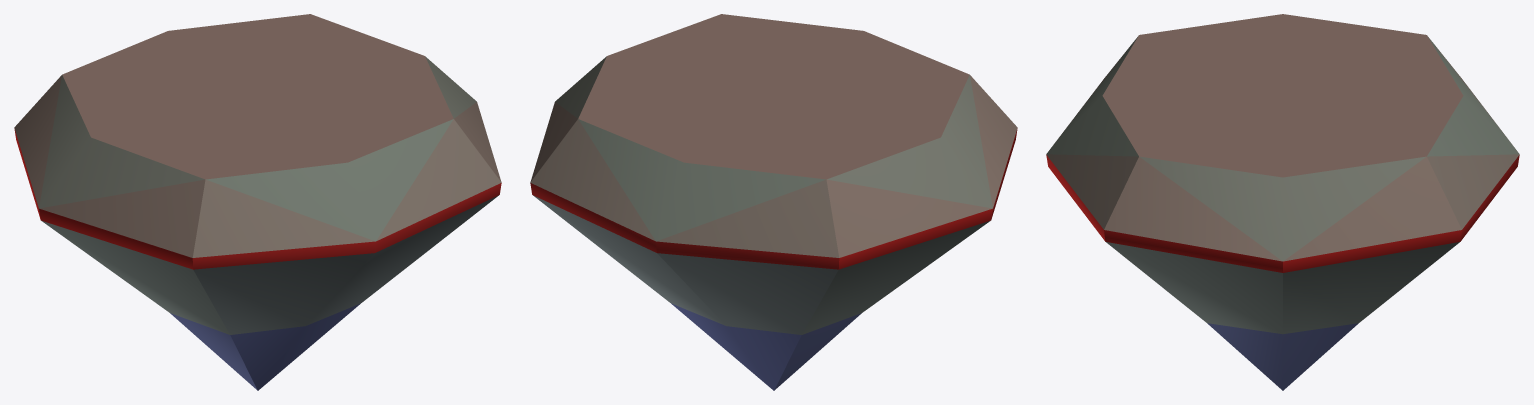
Rendered from Diamond.fbx.
The picture shows the model from 3 angles, left to right: view 1: azimuth 30°, elevation 25°; view 2: azimuth 150°, elevation 25°; view 3: azimuth 270°, elevation 25°; orthographic projection.
Parts seen in each view (by area): view 1: Diamond; view 2: Diamond; view 3: Diamond.
Part boxes in pixels (x1,y1,x2,y2): Diamond: [14, 14, 501, 390]; Diamond: [530, 14, 1017, 390]; Diamond: [1046, 14, 1519, 390].
Bounding box in the file's own units: 333 × 214 × 311.
